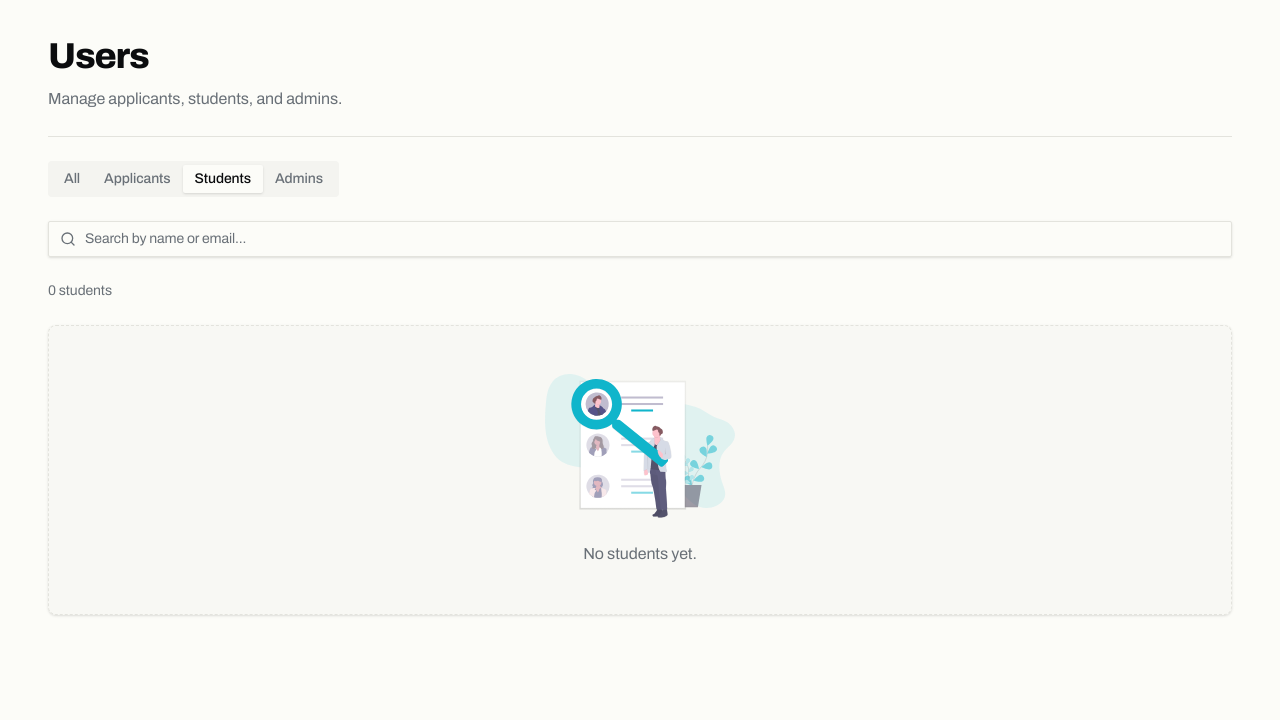
Test: admin users page › searches by name or email once typing pauses
Type "ada" into the field named "Search users by name or email" at (640, 239), box [48,221,1232,257]
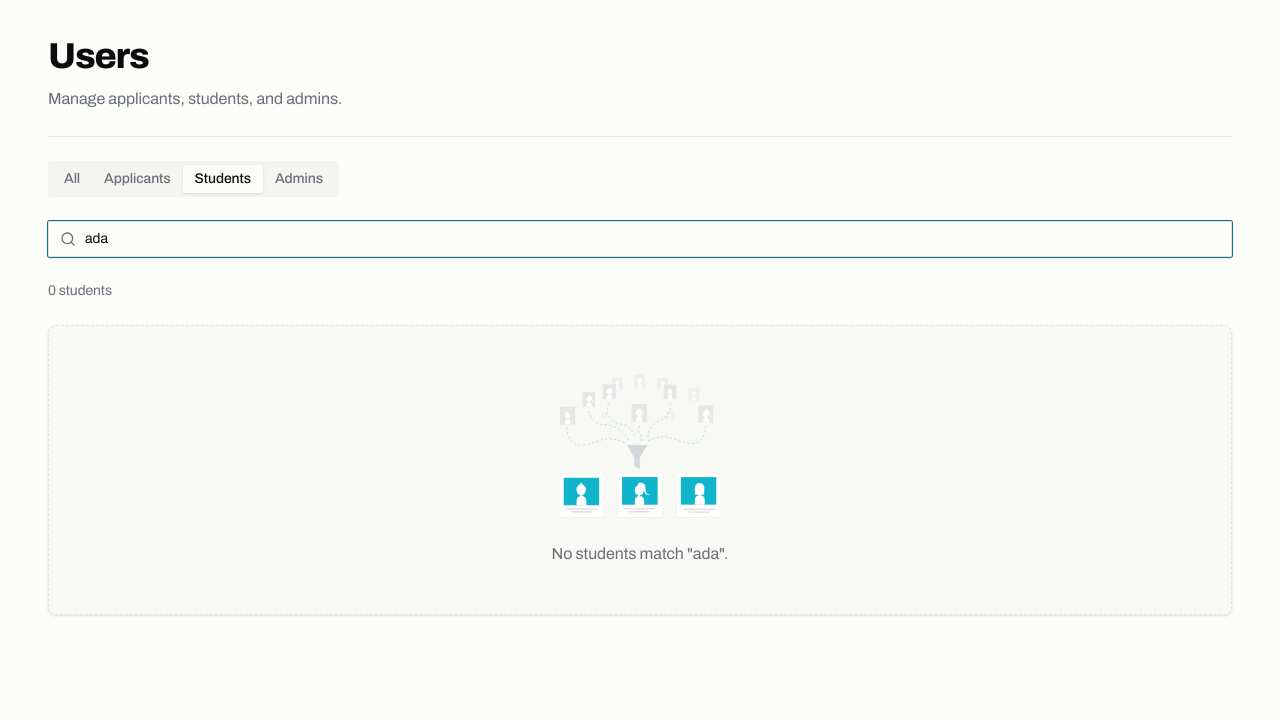
expect the text "No students match \"ada\"." is shown: met, box [552,374,728,562]
